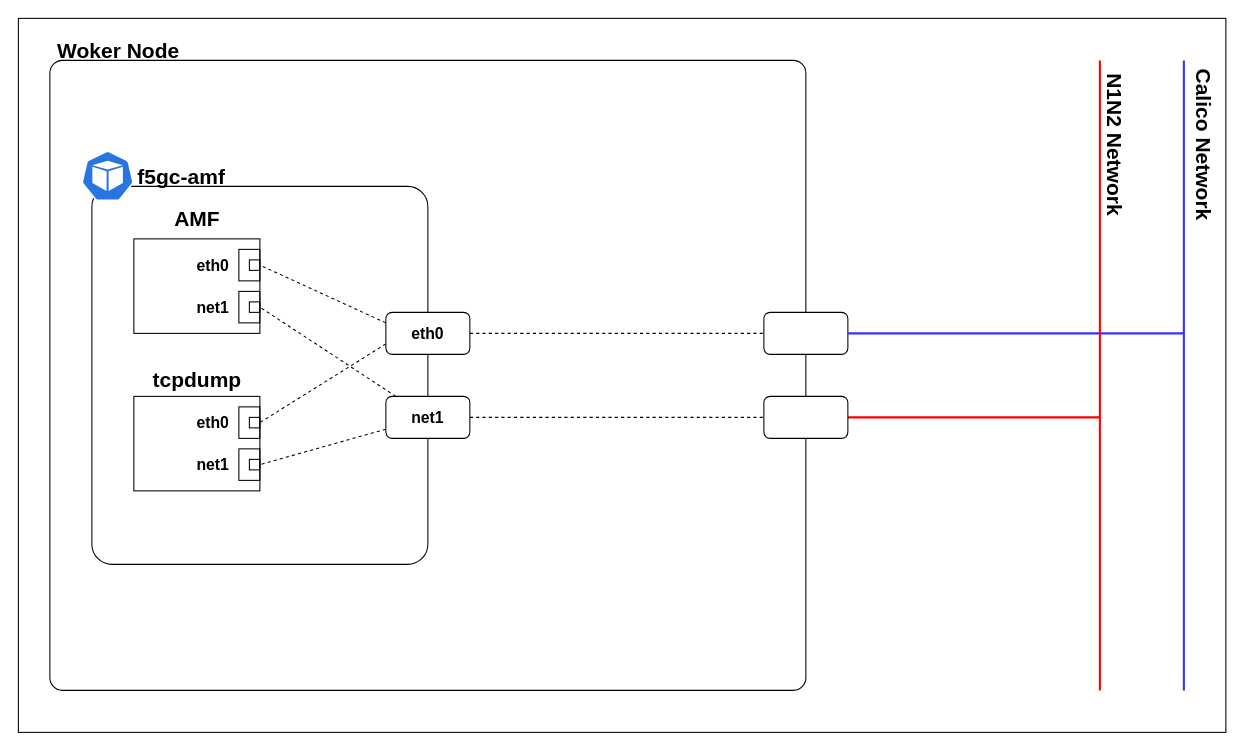
The diagram is 1244 pixels wide and 751 high, and some of its shapes have lost their labels. Here are the shapes that lost their labels. From the top down, the centre of each, then its label:
At point (805, 332): "calixxx".
At point (805, 416): "eth1".
